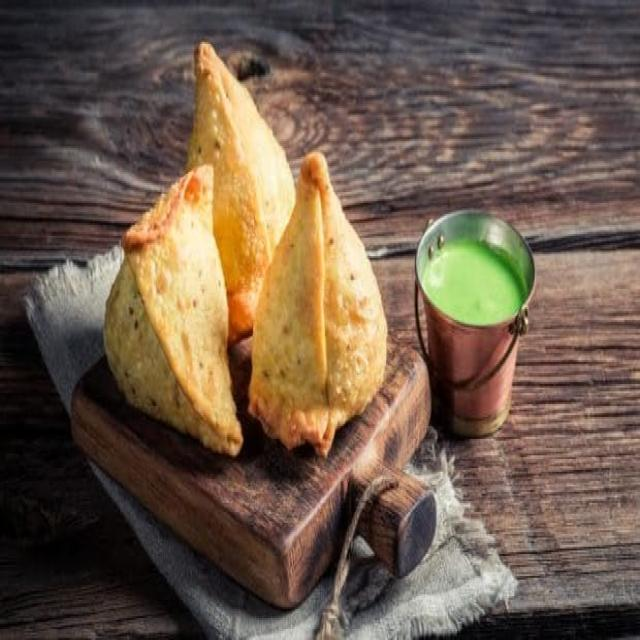samosa: (240, 126, 389, 428)
